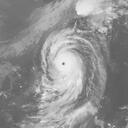cyclone: (40, 28, 107, 100)
